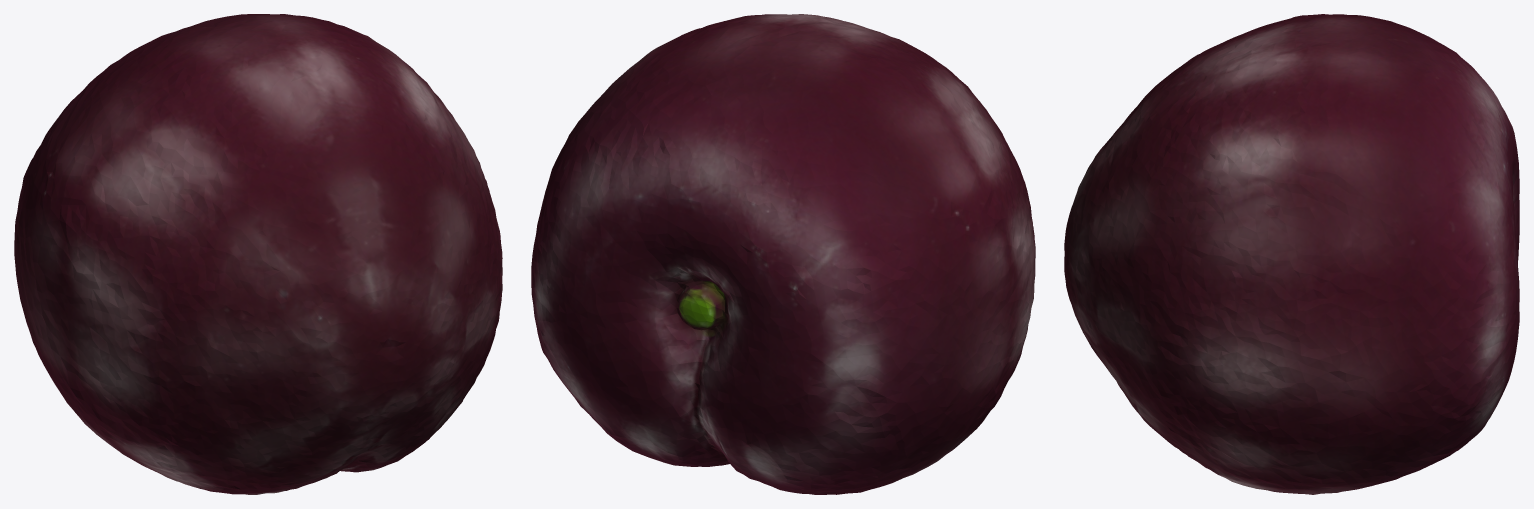
File: plum.glb
3 renders of one model, left to right at view 1: azimuth 30°, elevation 25°; view 2: azimuth 150°, elevation 25°; view 3: azimuth 270°, elevation 25°, orthographic. The views are drawn at different scales.
Visible parts, largest first — view 1: textured.obj; view 2: textured.obj; view 3: textured.obj.
Part boxes in pixels (x1,y1,x2,y2): textured.obj: (14, 14, 502, 494); textured.obj: (531, 14, 1035, 494); textured.obj: (1064, 14, 1519, 494).
Size of the model in its own units: 0.0557 by 0.0529 by 0.053.
1 material, 1 textured.
